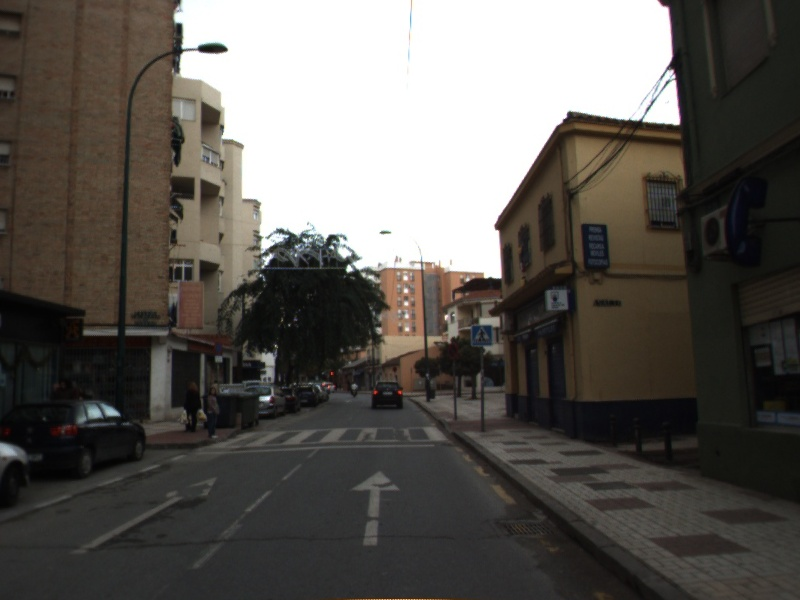STRAIGHT: (65, 475, 220, 558), (347, 469, 402, 548)
